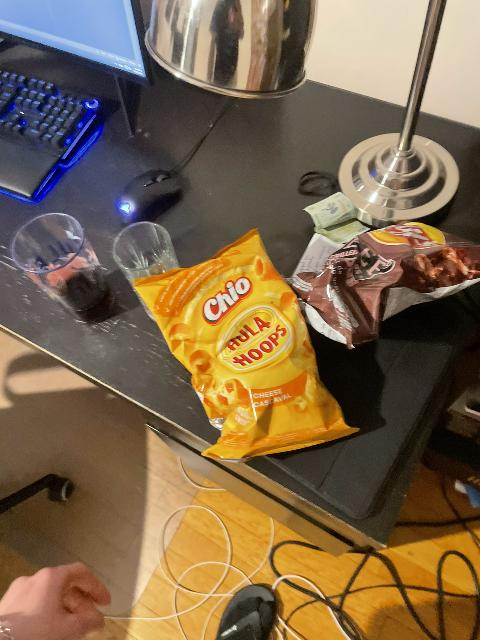Chio Hula Hoops Cheese 70g: (132, 227, 361, 461)
Lays Beef Grilled Ribs 125g: (285, 222, 480, 345)
